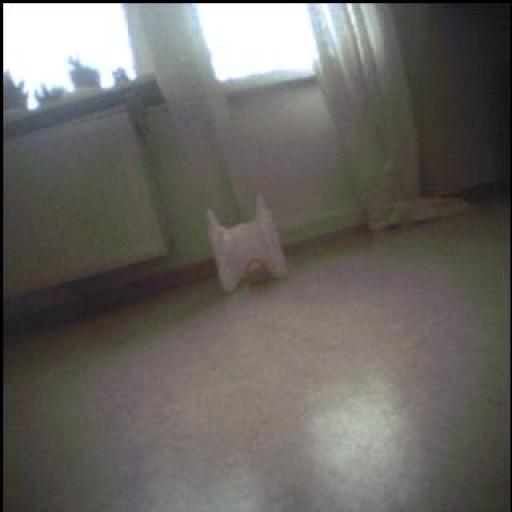Basket: (242, 260, 271, 285)
